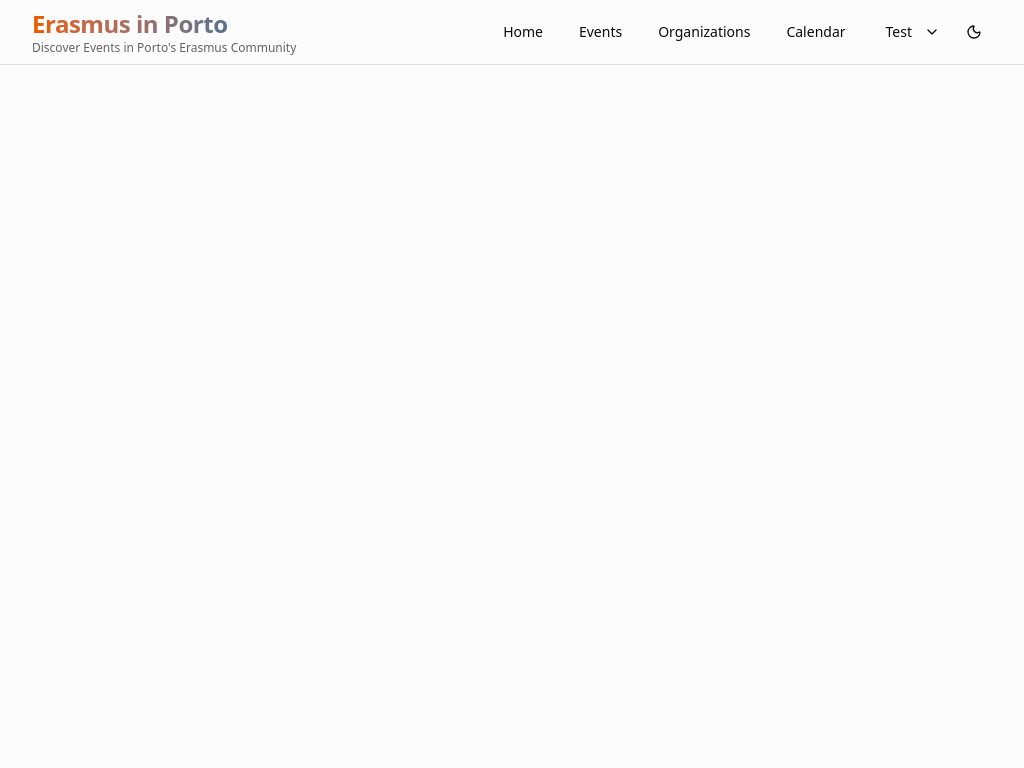
Test: Navbar Component › Notifications › should display the unread count when greater than 0
// Wait for the user button to appear, then click it to open the dropdown
Step 1. Click the button "Test" → (913, 32), box [874,14,952,50]
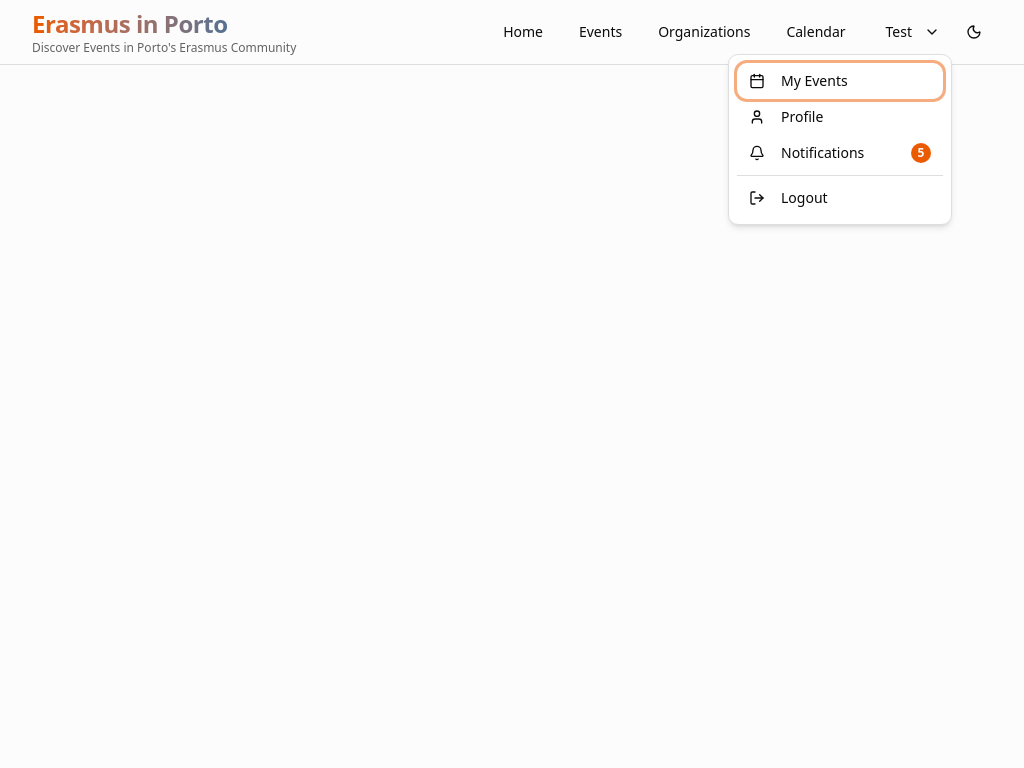
Check: the text "5" is shown, box [911,143,931,163]
